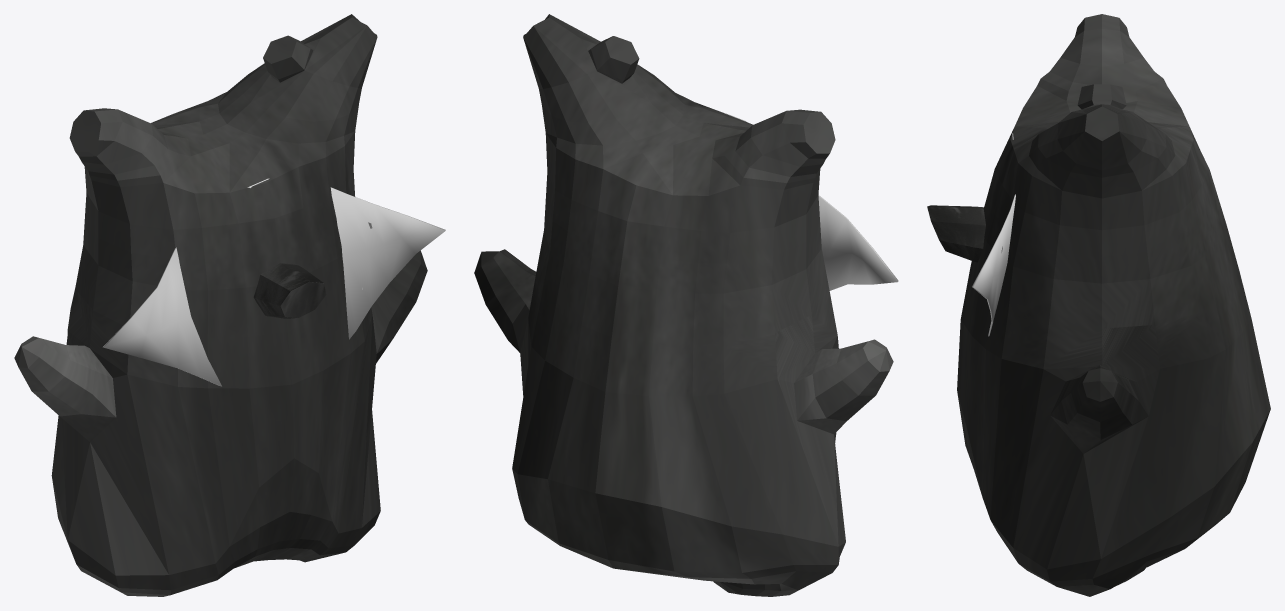
File: frame_0049.obj
3 renders of one model, left to right at view 1: azimuth 30°, elevation 25°; view 2: azimuth 150°, elevation 25°; view 3: azimuth 270°, elevation 25°, orthographic. The views are drawn at different scales.
Visible parts, largest first — view 1: korok, leaf, nose; view 2: korok, leaf; view 3: korok, nose, leaf.
Boxes of the visible parts, left/top/right/bottom form: korok: left=14, top=14, right=427, bottom=596; leaf: left=103, top=178, right=445, bottom=386; nose: left=253, top=263, right=326, bottom=318; korok: left=474, top=14, right=893, bottom=596; leaf: left=725, top=113, right=898, bottom=290; korok: left=957, top=14, right=1270, bottom=596; nose: left=927, top=205, right=985, bottom=262; leaf: left=972, top=133, right=1015, bottom=336.
Bounding box in the file's own units: 1.67 × 2.04 × 1.25.
